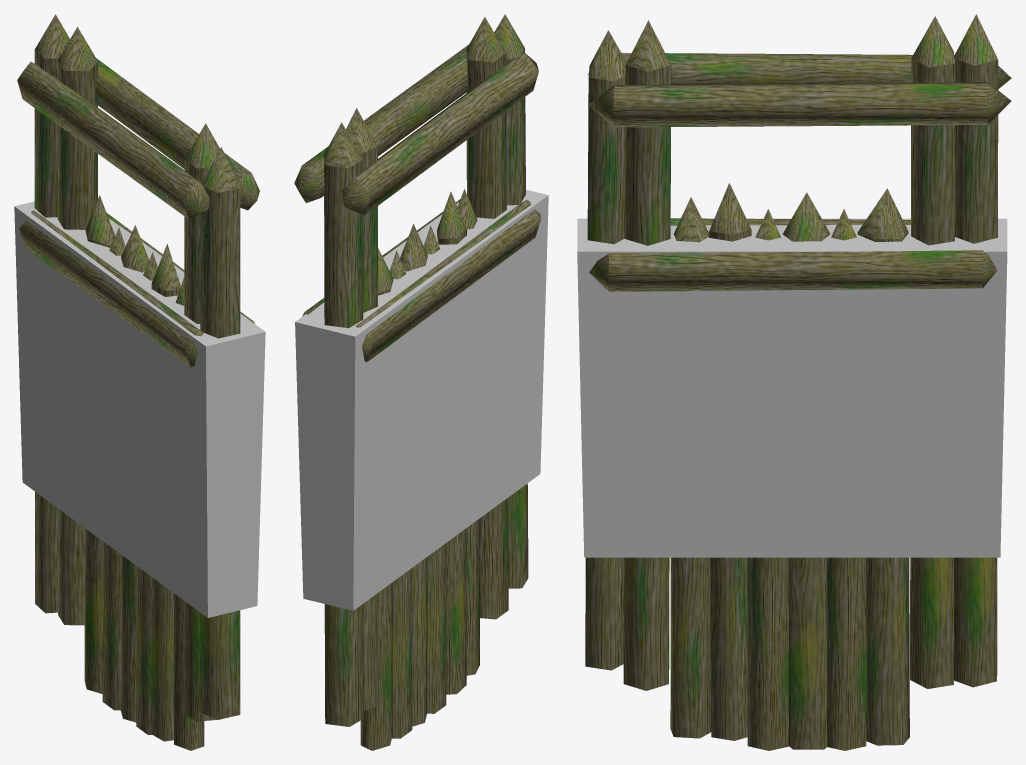
Rendered from gate_closed.obj.
The picture shows the model from 3 angles, left to right: view 1: azimuth 30°, elevation 25°; view 2: azimuth 150°, elevation 25°; view 3: azimuth 270°, elevation 25°; orthographic projection. The views are drawn at different scales.
Visible parts, largest first — view 1: Box02, Duplicate02, Duplicate13, Duplicate09, Duplicate00, Duplicate10, Duplicate12, Cylinder01, Duplicate08, Duplicate06, Duplicate07, Duplicate05 (+1 smaller); view 2: Box02, Duplicate02, Duplicate10, Duplicate12, Duplicate00, Duplicate13, Cylinder01, Duplicate09, Duplicate07, Duplicate08, Duplicate05, Duplicate06 (+1 smaller); view 3: Box02, Duplicate02, Duplicate01, Duplicate12, Duplicate09, Duplicate10, Duplicate13, Duplicate08, Duplicate06, Duplicate05, Duplicate11, Cylinder01 (+1 smaller).
Boxes of the visible parts, x1,y1,x2,y2 form: Box02: [14, 201, 265, 617]; Duplicate02: [17, 58, 259, 218]; Duplicate13: [200, 147, 240, 719]; Duplicate09: [57, 27, 97, 625]; Duplicate00: [19, 210, 203, 367]; Duplicate10: [34, 14, 69, 613]; Duplicate12: [184, 123, 220, 721]; Cylinder01: [150, 244, 180, 741]; Duplicate08: [84, 195, 115, 693]; Duplicate06: [120, 225, 148, 722]; Duplicate07: [102, 227, 125, 710]; Duplicate05: [136, 252, 157, 735]; Box02: [295, 189, 548, 610]; Duplicate02: [294, 44, 538, 215]; Duplicate10: [324, 122, 363, 726]; Duplicate12: [466, 17, 508, 619]; Duplicate00: [356, 199, 541, 362]; Duplicate13: [494, 14, 528, 588]; Cylinder01: [437, 191, 466, 694]; Duplicate09: [346, 108, 378, 711]; Duplicate07: [389, 250, 412, 738]; Duplicate08: [360, 248, 393, 750]; Duplicate05: [423, 225, 446, 713]; Duplicate06: [400, 223, 427, 726]; Box02: [577, 218, 1007, 557]; Duplicate02: [588, 53, 1011, 127]; Duplicate01: [589, 250, 997, 291]; Duplicate12: [623, 20, 671, 690]; Duplicate09: [910, 16, 955, 688]; Duplicate10: [954, 14, 998, 687]; Duplicate13: [585, 30, 626, 670]; Duplicate08: [857, 188, 909, 745]; Duplicate06: [783, 192, 830, 749]; Duplicate05: [747, 209, 789, 750]; Duplicate11: [670, 197, 711, 738]; Cylinder01: [709, 183, 751, 740].
Size of the model in its own units: 12.08 by 97.37 by 52.7.
